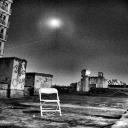chair_success: (31, 83, 67, 120)
